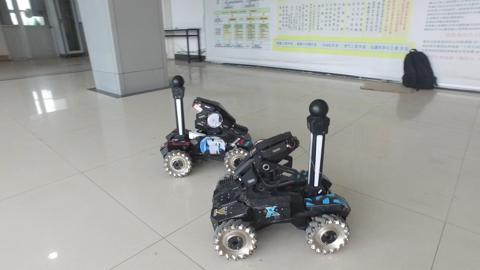chariot: (208, 97, 355, 263), (151, 74, 256, 181)
